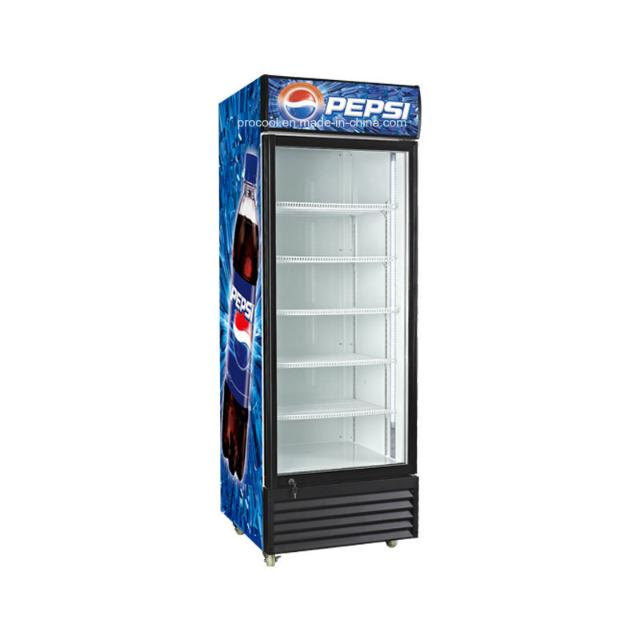Cooling-Display: (206, 59, 434, 596)
